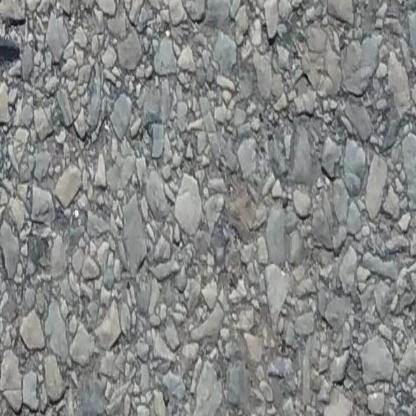Cracks: (0, 0, 8, 324)
